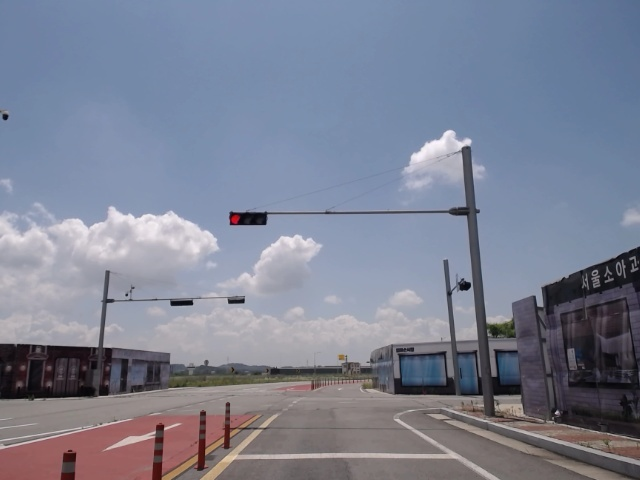red_3: (227, 210, 269, 226)
